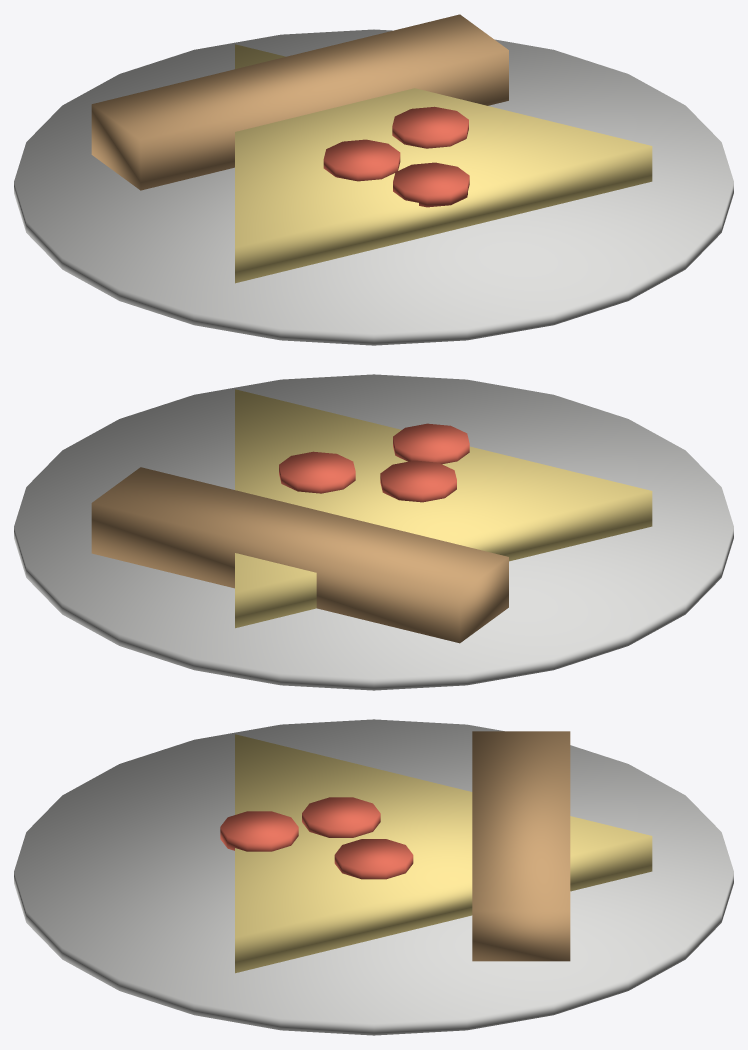
The model's file is SM_PizzaSlice.fbx.
The picture shows the model from 3 angles, top to bottom: view 1: azimuth 30°, elevation 25°; view 2: azimuth 150°, elevation 25°; view 3: azimuth 270°, elevation 25°; orthographic projection.
Visible parts, largest first — view 1: SM_PizzaSlice; view 2: SM_PizzaSlice; view 3: SM_PizzaSlice.
Boxes of the visible parts, x1,y1,x2,y2 form: SM_PizzaSlice: (14,14,733,345); SM_PizzaSlice: (14,374,733,690); SM_PizzaSlice: (14,719,733,1035).
Bounding box in the file's own units: 0.22 × 0.021 × 0.22.
